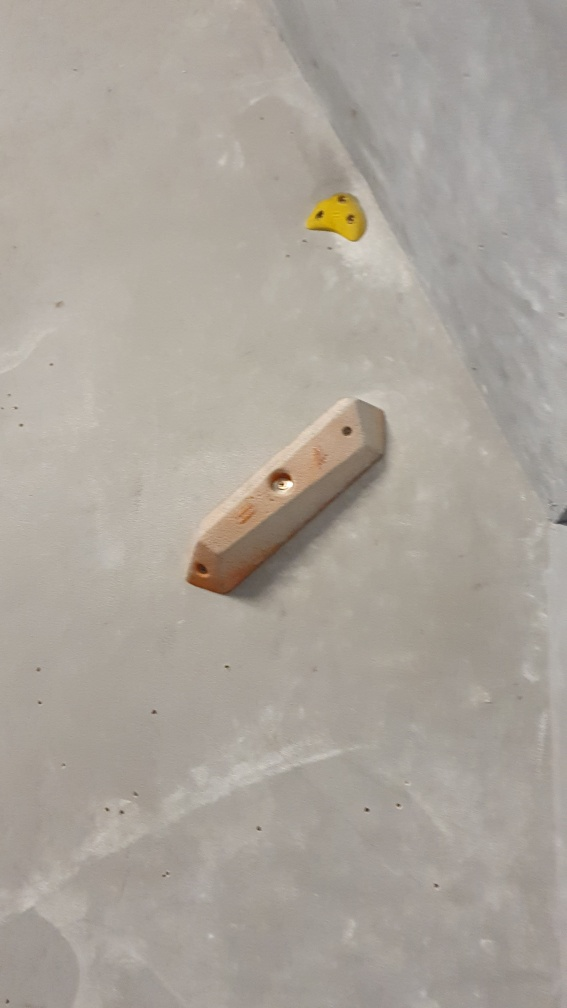Pinch: (187, 397, 388, 598)
